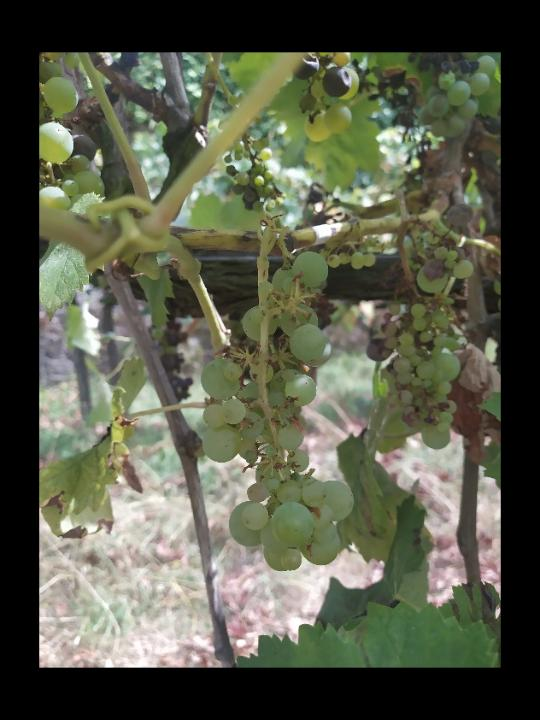grape: (198, 249, 357, 574)
